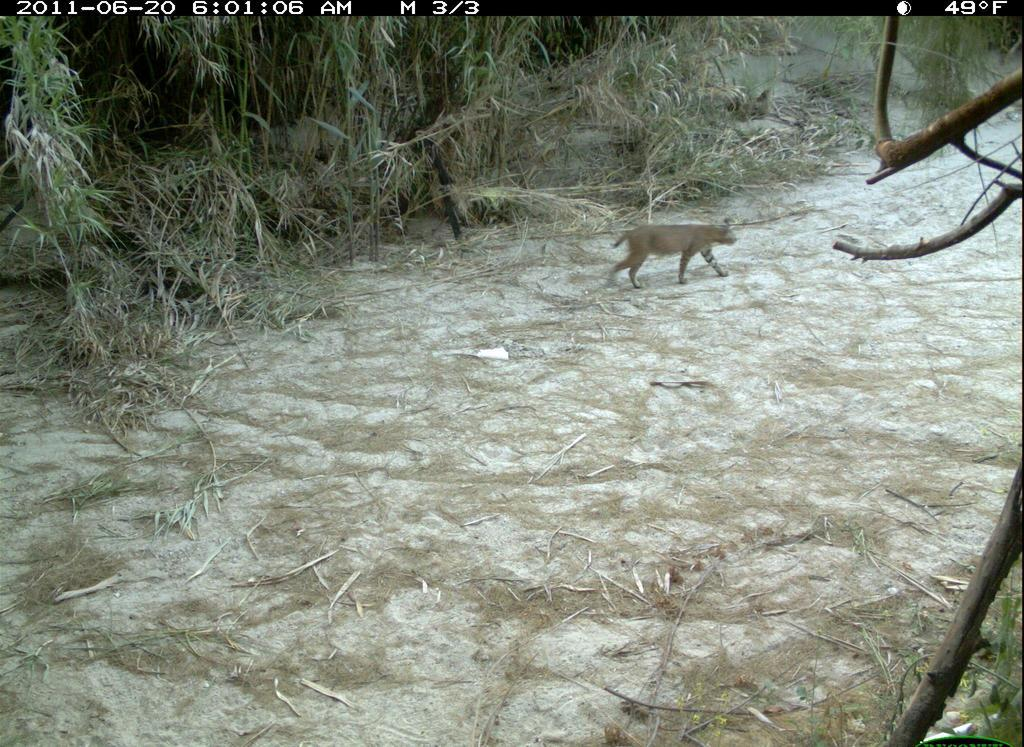bobcat: (597, 213, 747, 300)
